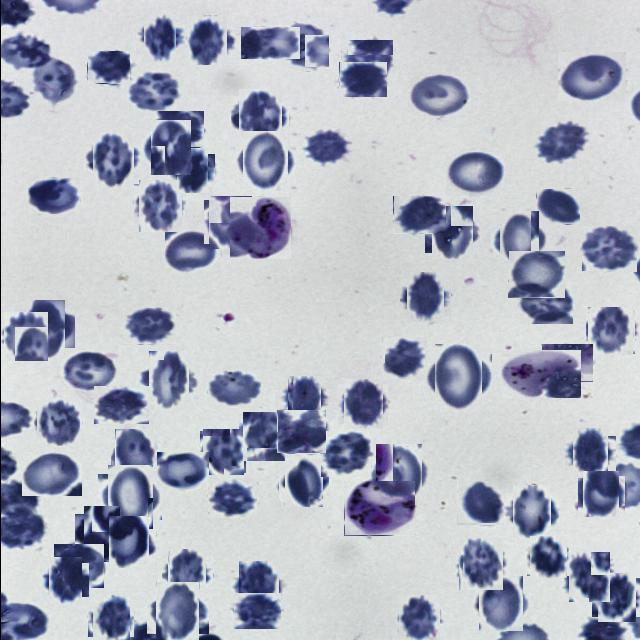difficult: (343, 481, 414, 536), (229, 197, 290, 259)
red blood cell: (428, 349, 486, 407), (557, 52, 625, 101), (408, 72, 472, 118), (371, 448, 425, 502), (102, 470, 156, 524), (238, 135, 291, 188), (150, 586, 203, 638), (444, 152, 504, 197), (507, 251, 564, 298), (234, 92, 285, 144), (274, 23, 328, 72), (21, 452, 81, 496), (580, 226, 636, 272), (164, 229, 220, 274), (475, 579, 525, 629), (143, 356, 193, 406), (60, 349, 116, 392), (88, 136, 137, 184), (456, 540, 505, 588), (494, 216, 543, 264), (21, 304, 69, 352), (135, 182, 183, 230), (146, 124, 194, 172), (320, 431, 370, 477), (126, 70, 180, 112), (518, 282, 572, 324), (206, 198, 253, 246), (428, 209, 476, 256), (31, 56, 76, 106), (534, 120, 587, 162), (586, 308, 633, 355), (112, 430, 158, 478), (53, 544, 103, 588), (276, 410, 326, 454), (2, 314, 48, 361), (34, 399, 80, 445), (508, 489, 554, 535), (78, 510, 124, 556), (240, 414, 286, 460), (566, 554, 612, 600), (106, 519, 152, 565), (93, 386, 148, 424), (456, 480, 503, 524), (207, 370, 260, 408), (392, 196, 445, 234), (184, 18, 229, 62), (402, 276, 447, 320), (381, 337, 426, 381), (395, 597, 441, 640), (340, 40, 392, 78), (540, 344, 592, 382), (122, 308, 175, 345), (207, 478, 256, 518), (594, 576, 638, 620), (281, 461, 325, 505), (340, 382, 384, 426), (164, 552, 208, 596), (236, 564, 280, 608), (200, 430, 244, 474), (156, 452, 208, 489), (240, 27, 299, 59), (152, 111, 203, 148), (27, 178, 79, 214), (301, 128, 350, 166), (568, 432, 611, 475), (232, 593, 280, 630), (90, 596, 132, 638), (338, 62, 386, 98), (580, 474, 621, 514), (140, 18, 180, 58), (527, 537, 567, 577), (284, 378, 324, 418), (44, 560, 84, 600), (535, 189, 579, 225), (172, 151, 211, 189), (86, 51, 129, 84)
trophozoite: (500, 350, 580, 398)
